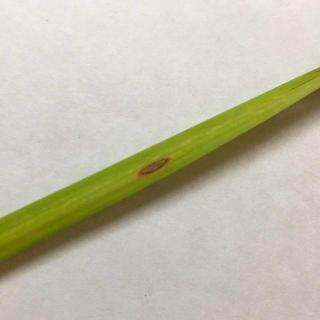Blast: (132, 157, 174, 185)
